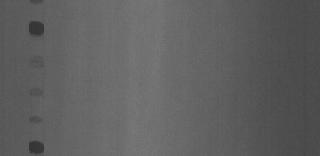oil spot: (27, 134, 49, 154), (29, 53, 46, 70), (28, 20, 46, 36), (30, 86, 44, 100), (30, 113, 42, 123), (30, 0, 48, 4)
